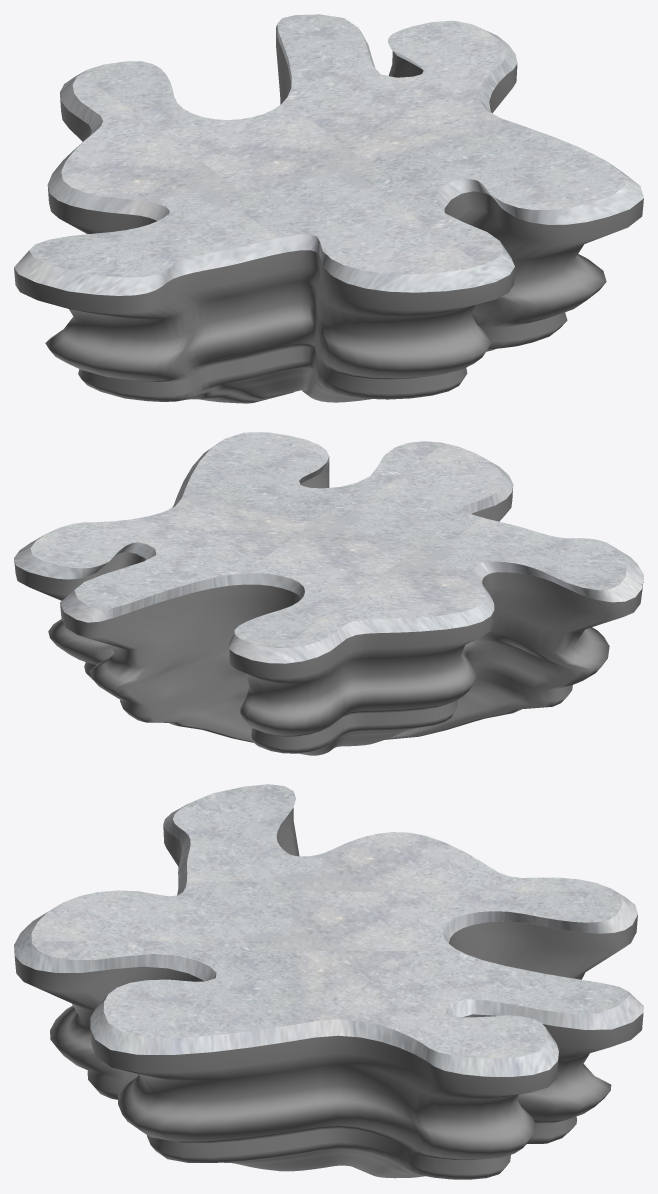
The model's file is winter.FBX.
3 renders of one model, top to bottom at view 1: azimuth 30°, elevation 25°; view 2: azimuth 150°, elevation 25°; view 3: azimuth 270°, elevation 25°, orthographic. The views are drawn at different scales.
Parts seen in each view (by area): view 1: Line012, Line013; view 2: Line012, Line013; view 3: Line012, Line013.
Boxes of the visible parts, bbox=[...] form: Line012: bbox=[14, 14, 643, 295]; Line013: bbox=[14, 29, 643, 403]; Line012: bbox=[14, 432, 643, 663]; Line013: bbox=[14, 461, 643, 755]; Line012: bbox=[14, 784, 643, 1076]; Line013: bbox=[14, 808, 643, 1179].
Bounding box in the file's own units: 1123 × 411 × 1032.
2 materials, 1 textured.
